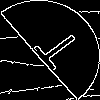T: (25, 25, 84, 78)
